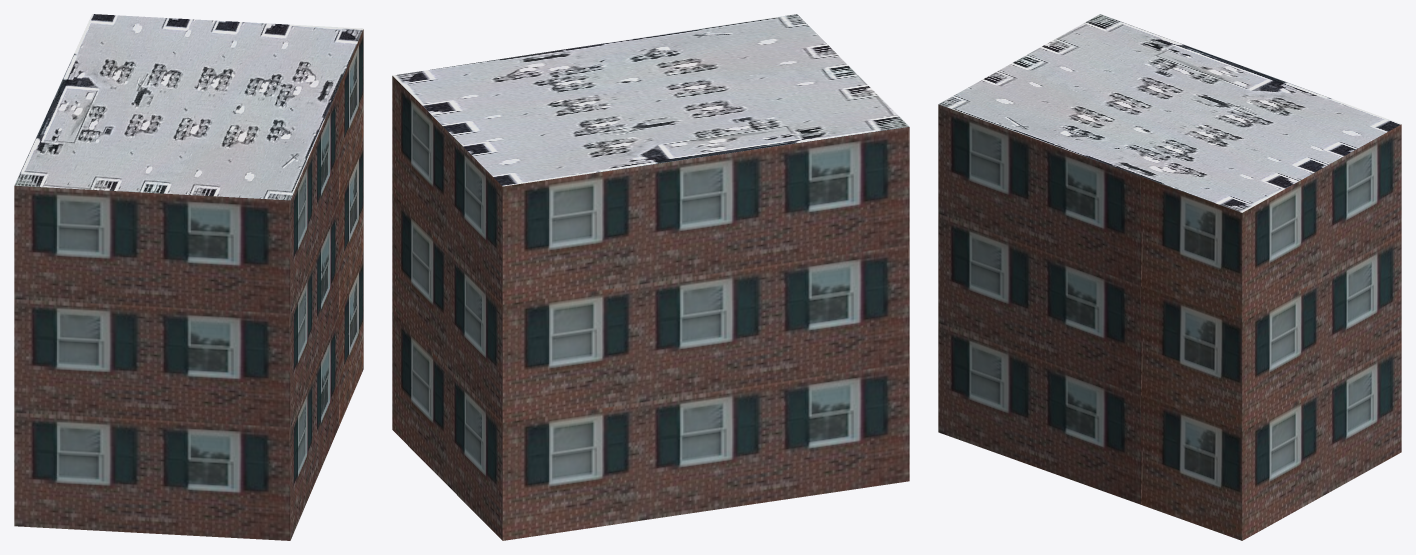
File: ResTex__4441.fbx
The picture shows the model from 3 angles, left to right: view 1: azimuth 30°, elevation 25°; view 2: azimuth 150°, elevation 25°; view 3: azimuth 270°, elevation 25°; orthographic projection. The views are drawn at different scales.
Visible parts, largest first — view 1: CityEngineMaterial_14_m, CityEngineMaterial_4_m; view 2: CityEngineMaterial_14_m, CityEngineMaterial_4_m; view 3: CityEngineMaterial_14_m, CityEngineMaterial_4_m.
Boxes of the visible parts, box(x1,y1,x2,y2) form: CityEngineMaterial_14_m: box(14, 29, 363, 540); CityEngineMaterial_4_m: box(14, 14, 363, 200); CityEngineMaterial_14_m: box(392, 76, 909, 540); CityEngineMaterial_4_m: box(392, 14, 909, 186); CityEngineMaterial_14_m: box(938, 104, 1401, 540); CityEngineMaterial_4_m: box(938, 14, 1401, 212).
Bounding box in the file's own units: 11.7 × 9 × 11.52.
2 materials, 2 textured.
